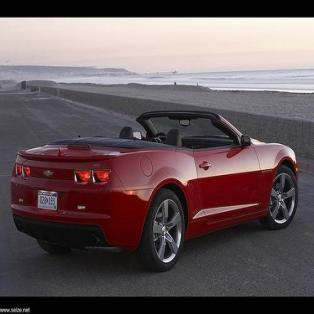Auto: (8, 107, 300, 276)
